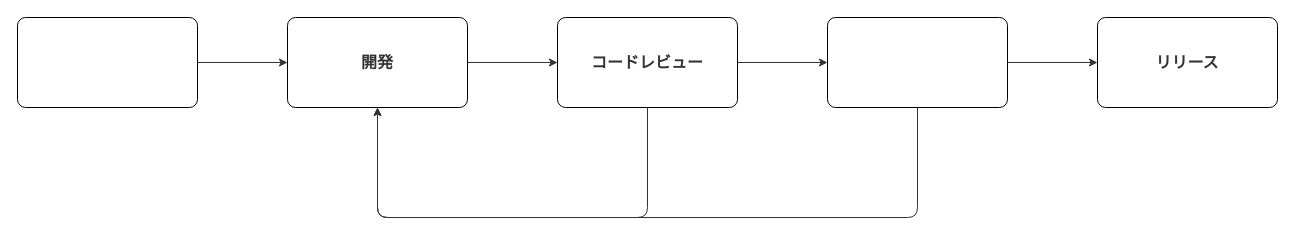
This 1295x243 diagram has some shape labels left out. The centre of each missing label's shape, as x and y in pixels:
"QA@ステージング" belongs at point (917, 62).
"チケット・仕様" belongs at point (107, 62).
